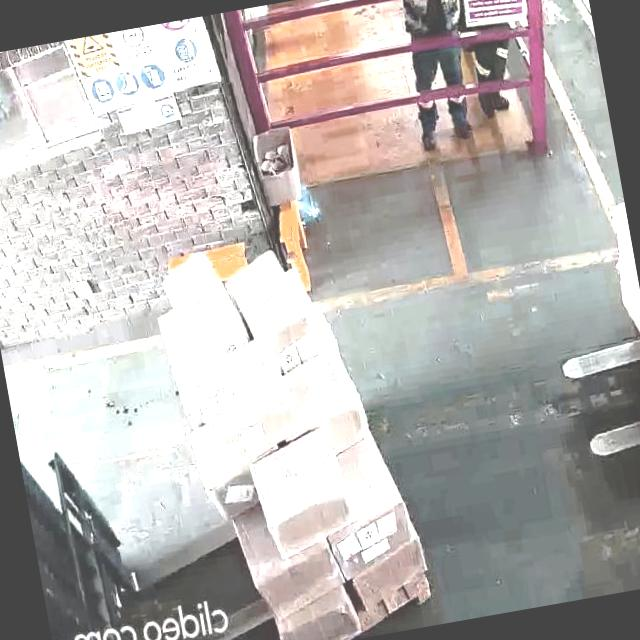Box: (188, 337, 296, 457), (248, 432, 356, 552), (152, 245, 250, 362), (284, 344, 364, 448), (249, 542, 343, 625), (235, 247, 304, 353), (327, 495, 418, 571), (352, 535, 436, 617), (277, 592, 358, 640)
